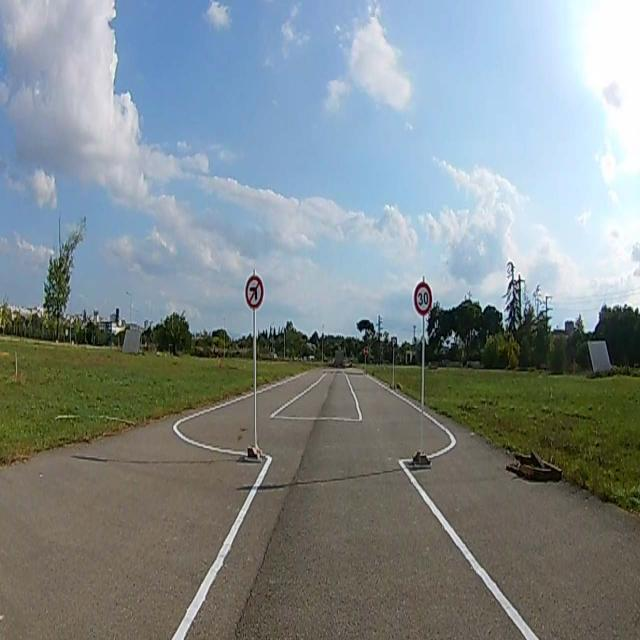30: (413, 283, 432, 314)
soladonulmez: (244, 278, 264, 310)
